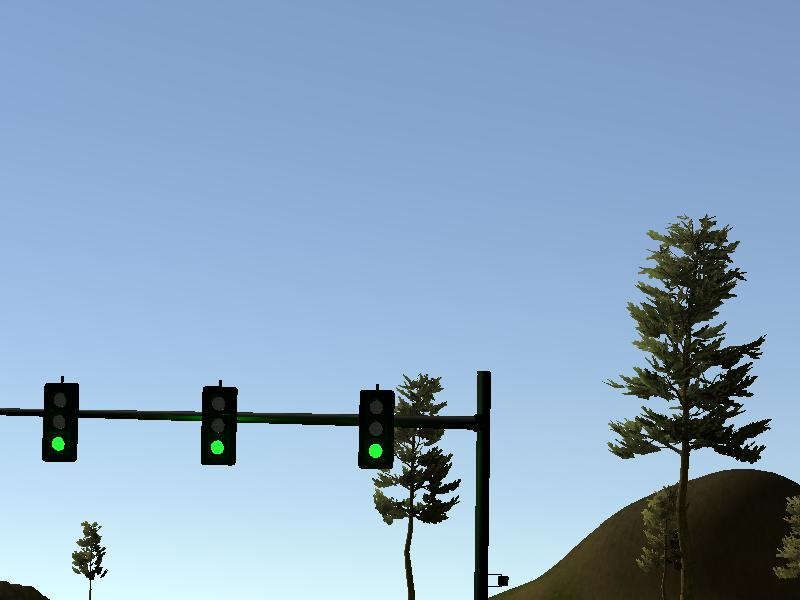green: (43, 382, 78, 463), (201, 384, 236, 465), (359, 389, 394, 470)
